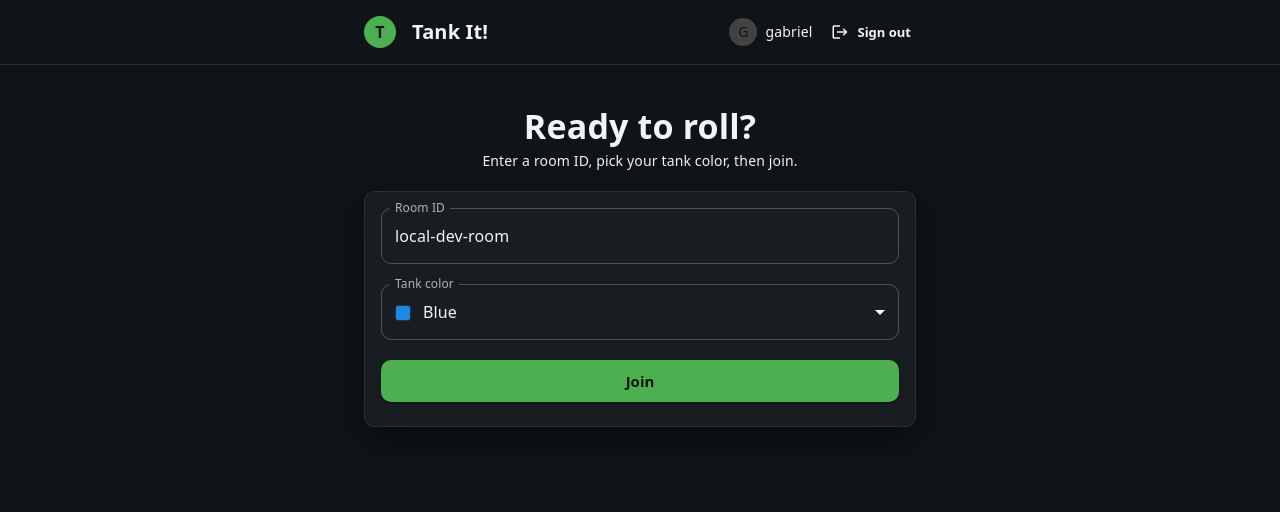
Test case: LobbyScreen › surfaces a hub failure and stays on the join form
Click the button "Join".
click(640, 381)  # box [381,360,899,402]
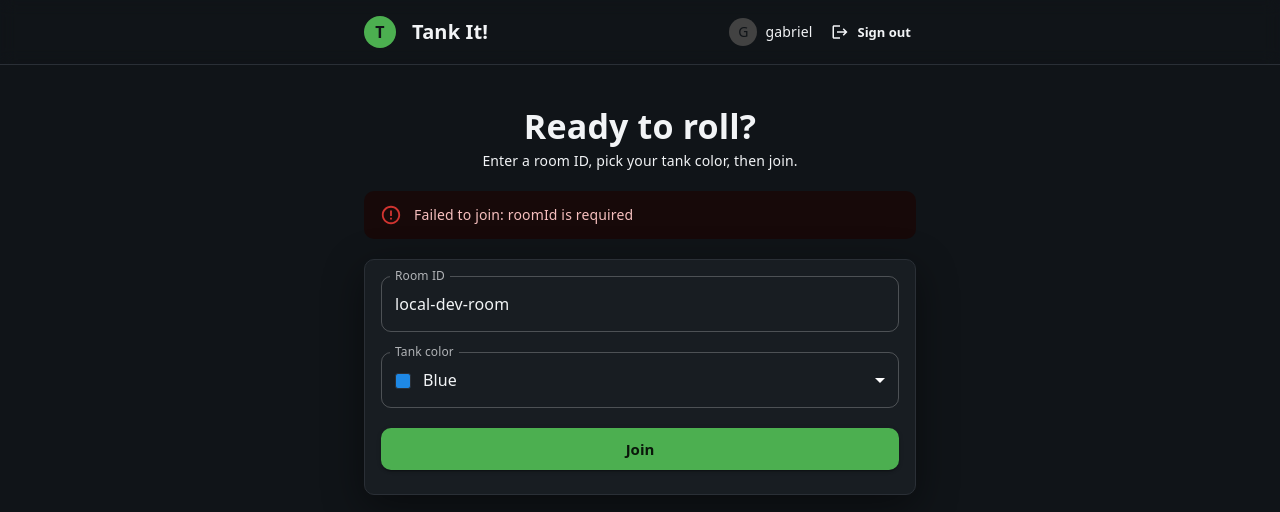
Expected: the heading "Ready to roll?" is shown, [524,103,756,149]
Now the text "Failed to join: roomId is required" is shown, box [414,205,633,224]
